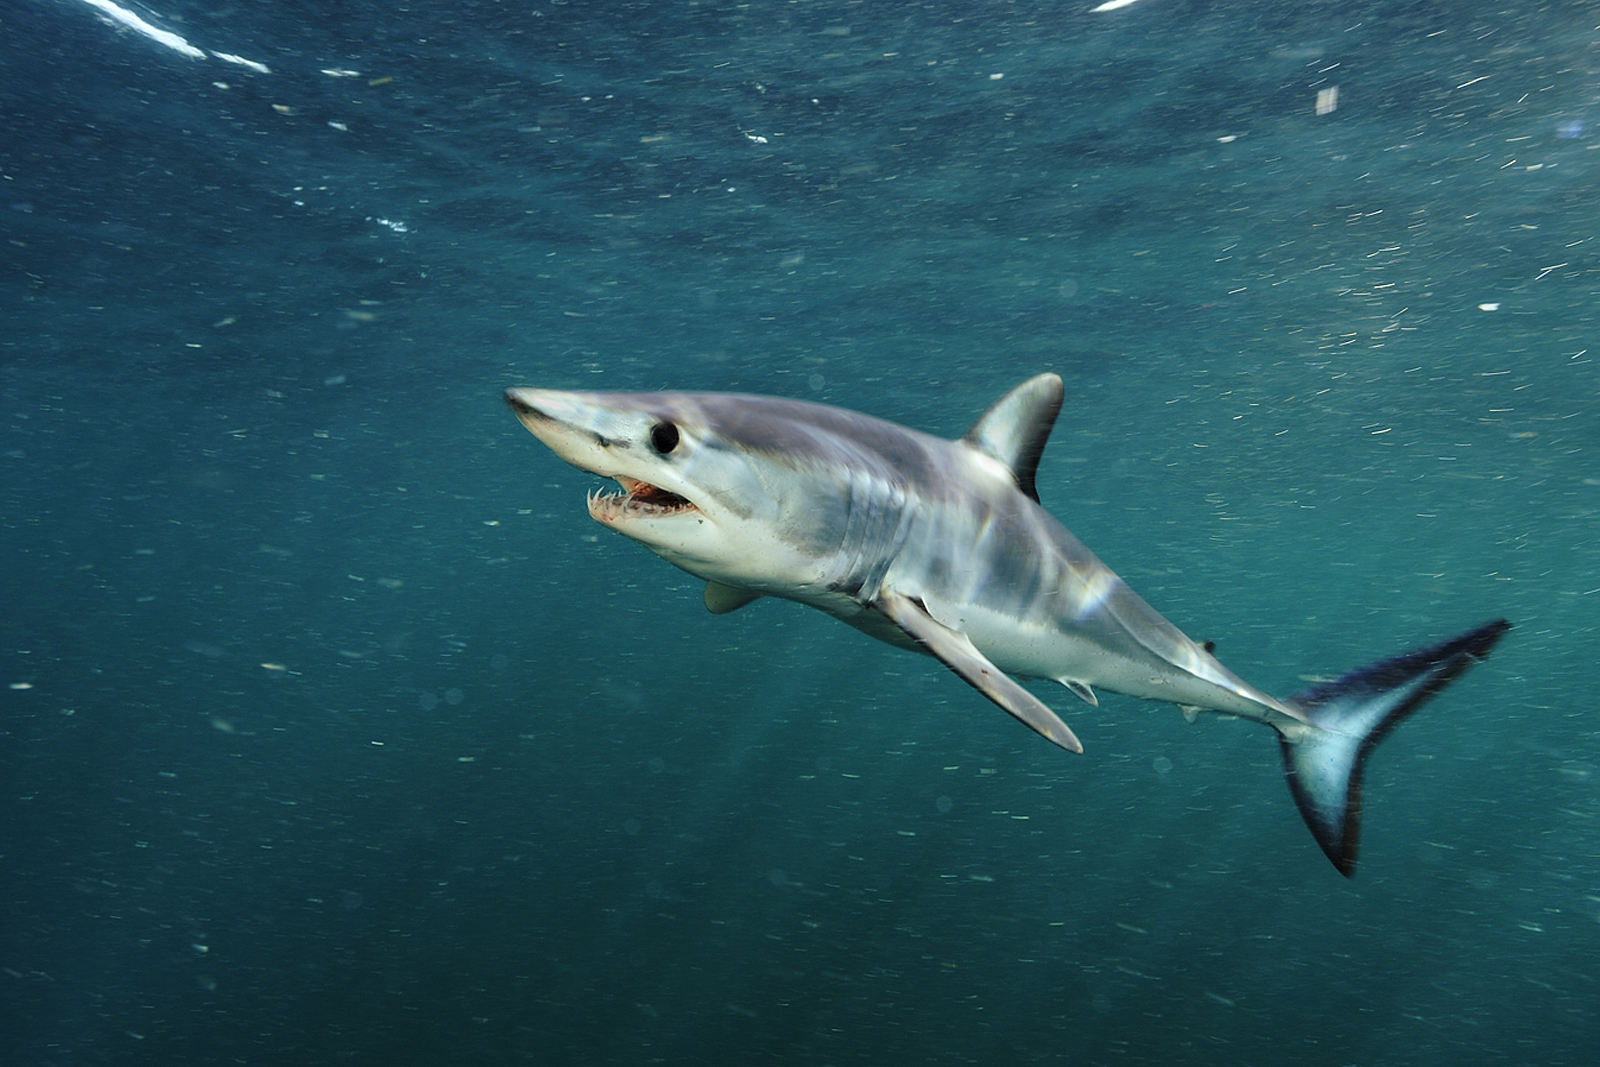Shark: (507, 368, 1499, 876)
